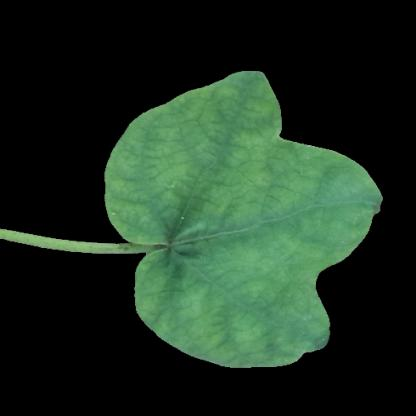curl_stage1: (150, 278, 289, 356), (213, 137, 304, 243), (114, 172, 213, 232)
